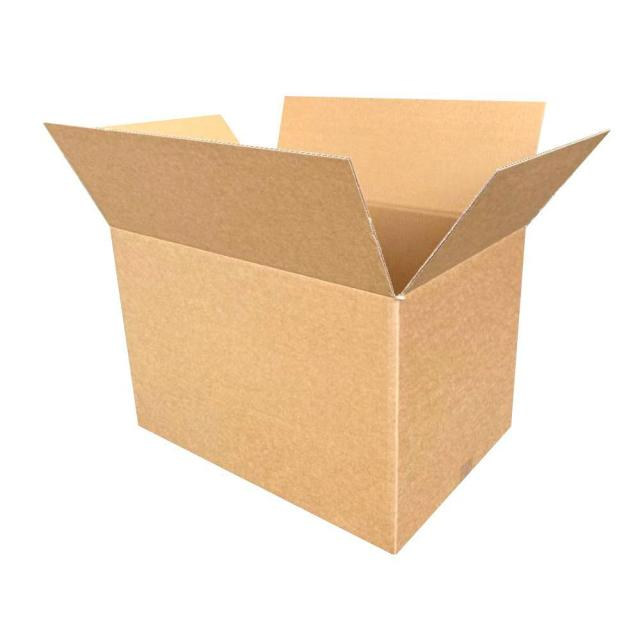Garbage: (42, 94, 610, 557)
